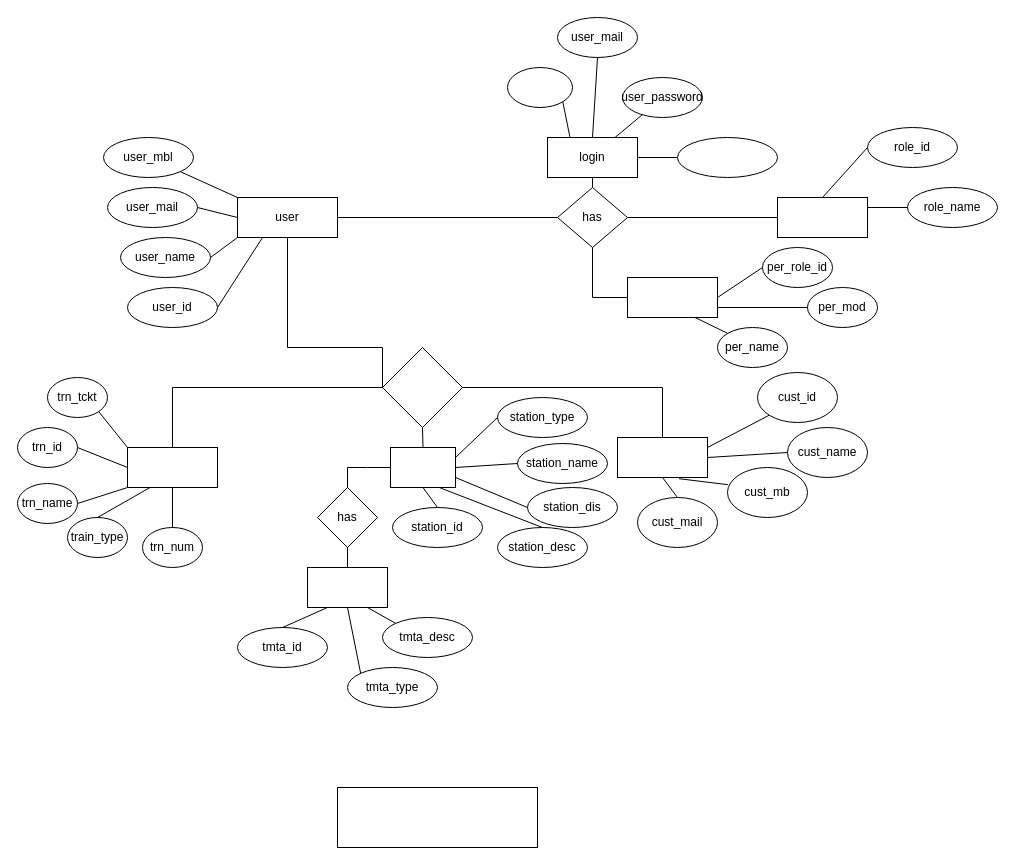
Image size: 1015x865. Some labels were removed from this diagram. Each missing label, with the centre of its shape:
"customer" belongs at point 662,457.
"ER DIAGRAM FOR RAILWAY MANAGEMENT SYSTEM" belongs at point 437,817.
"logiin_username" belongs at point 727,157.
"login_id" belongs at point 539,87.
"Manage" belongs at point 422,387.
"permission" belongs at point 672,297.
"role" belongs at point 822,217.
"station" belongs at point 423,467.
"time table" belongs at point 347,587.
"trains" belongs at point 172,467.
